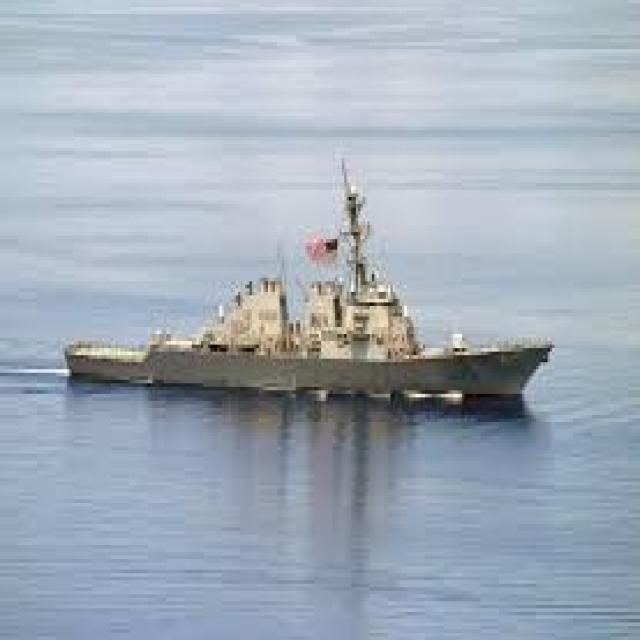navalvessels: (54, 162, 568, 422)
